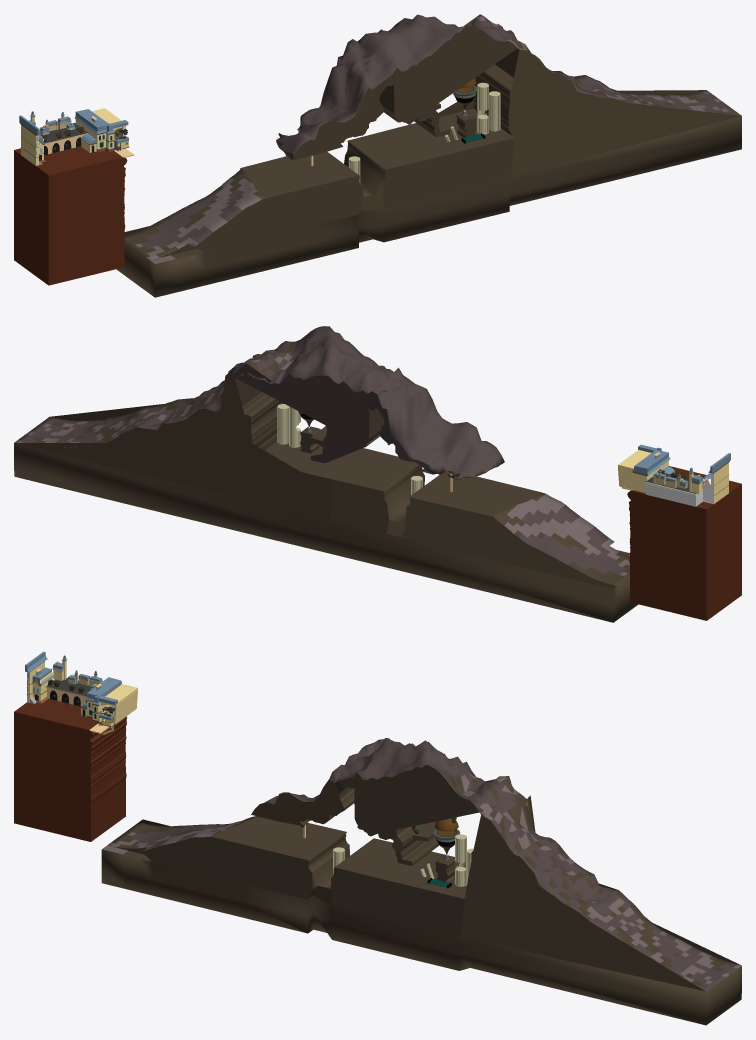
The model's file is Tudorework.fbx.
3 renders of one model, top to bottom at view 1: azimuth 30°, elevation 25°; view 2: azimuth 150°, elevation 25°; view 3: azimuth 330°, elevation 25°, orthographic.
Parts seen in each view (by area): view 1: Landscape.002, Plane.002, House, House.001, ponte, colunas, colunas.004; view 2: Landscape.002, Plane.002, House.001, House, ponte, Bck ground; view 3: Landscape.002, Plane.002, House.001, House, Cube.019, Bck ground, Cylinder.017, ponte.
Boxes of the visible parts, x1,y1,x2,y2 form: Landscape.002: [116, 14, 741, 297]; Plane.002: [14, 146, 127, 285]; House: [74, 109, 114, 152]; House.001: [19, 115, 45, 165]; ponte: [39, 123, 87, 155]; colunas: [477, 82, 488, 134]; colunas.004: [488, 91, 500, 131]; Landscape.002: [14, 326, 638, 622]; Plane.002: [627, 466, 741, 620]; House.001: [702, 453, 730, 504]; House: [632, 447, 675, 492]; ponte: [645, 473, 702, 506]; Bck ground: [653, 467, 703, 494]; Landscape.002: [101, 738, 741, 1025]; Plane.002: [14, 698, 127, 841]; House.001: [25, 651, 53, 703]; House: [81, 677, 121, 723]; Cube.019: [101, 685, 137, 724]; Bck ground: [52, 655, 102, 689]; Cylinder.017: [433, 817, 460, 854]; ponte: [46, 678, 90, 706].
Bounding box in the file's own units: 755 × 202 × 86.26.
